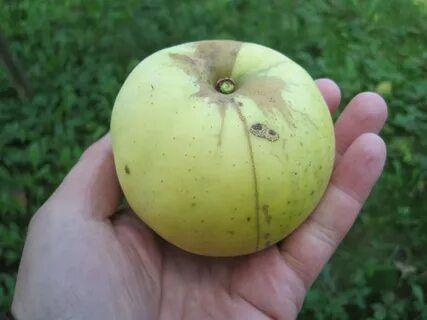fruit: (110, 42, 337, 256)
